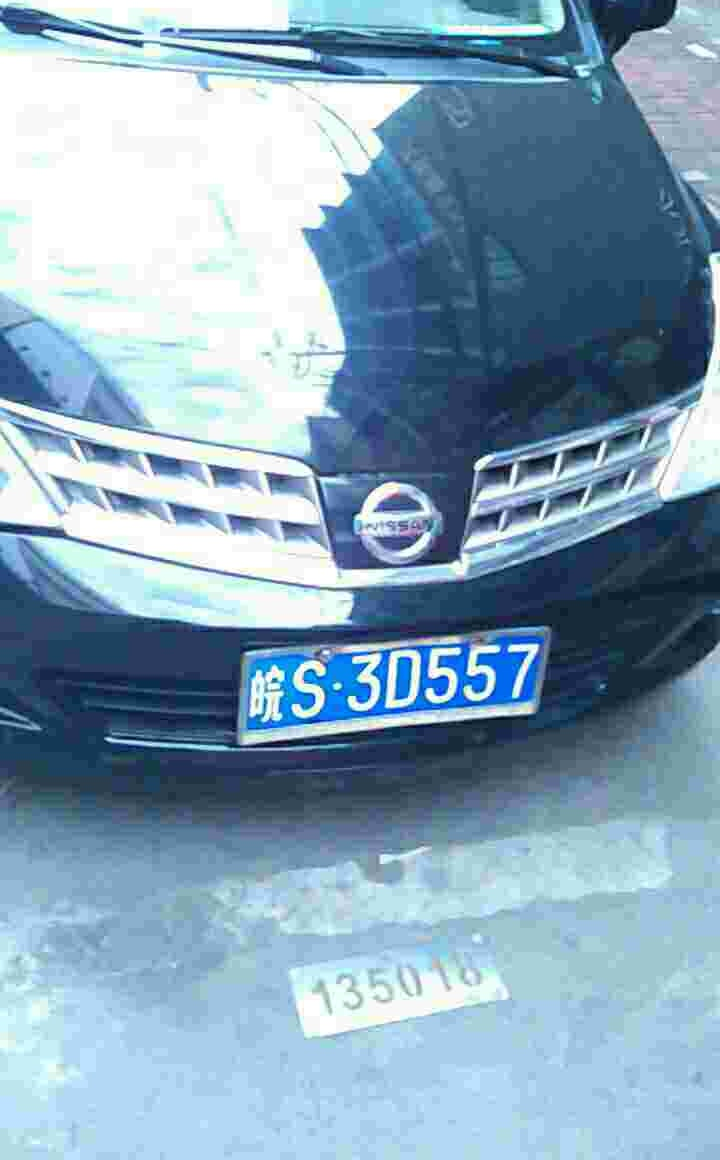license_plate: (241, 637, 527, 739)
